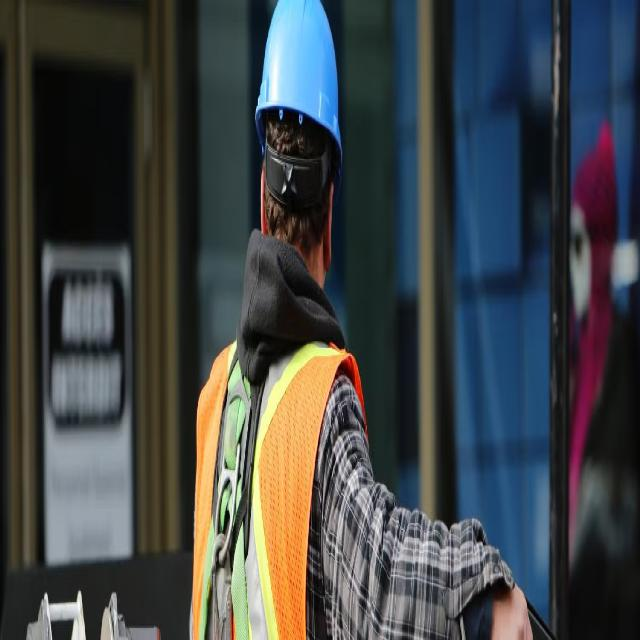Hard Hat: (245, 2, 348, 157)
Reflective Vest: (190, 330, 370, 636)
